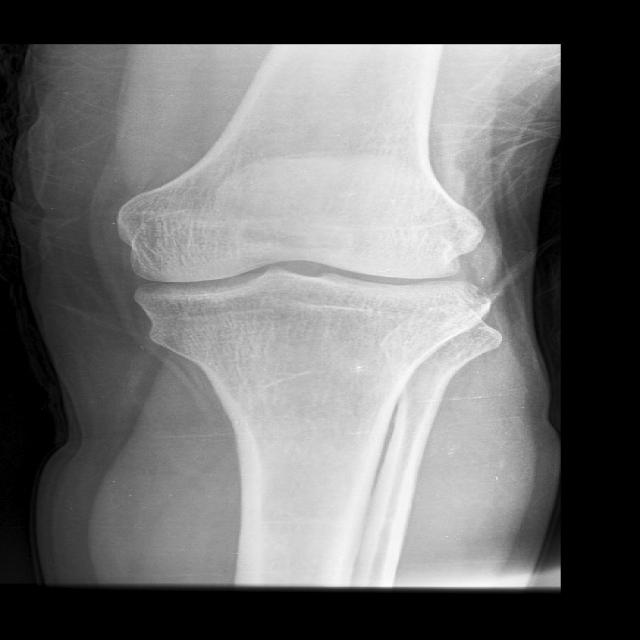normal: (103, 186, 496, 322)
